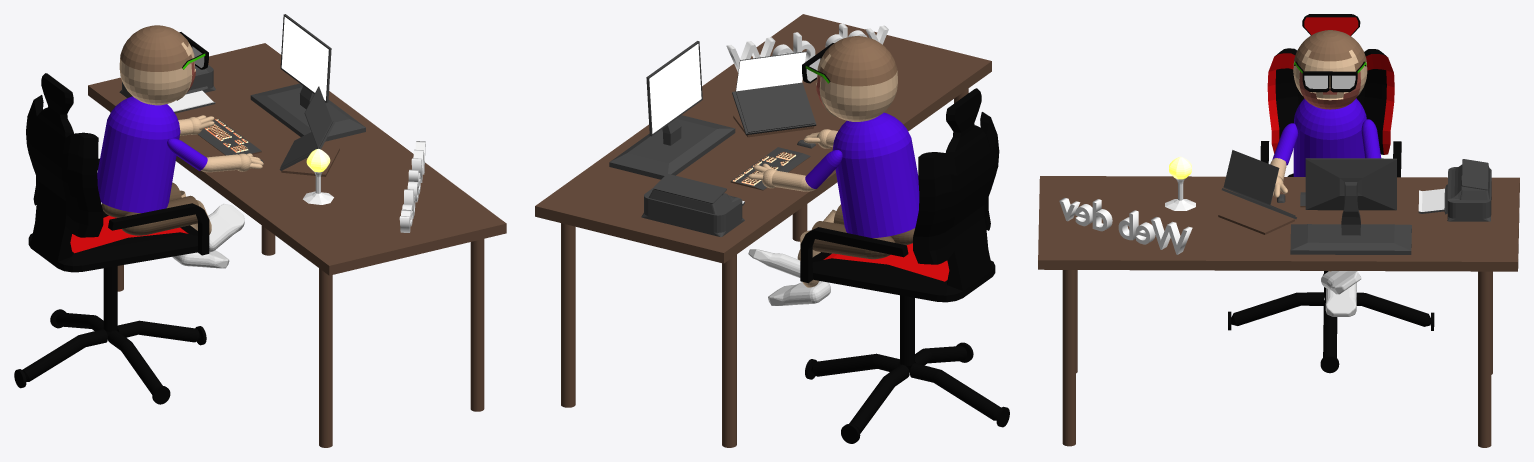
File: r_code_three.gltf
The picture shows the model from 3 angles, left to right: view 1: azimuth 30°, elevation 25°; view 2: azimuth 150°, elevation 25°; view 3: azimuth 270°, elevation 25°; orthographic projection. The views are drawn at different scales.
Visible parts, largest first — view 1: Perso; view 2: Perso; view 3: Perso.
Boxes of the visible parts, x1,y1,x2,y2 form: Perso: (14,14,506,447); Perso: (535,14,1009,447); Perso: (1038,14,1519,447).
Size of the model in its own units: 1.05 by 0.9641 by 1.31.
